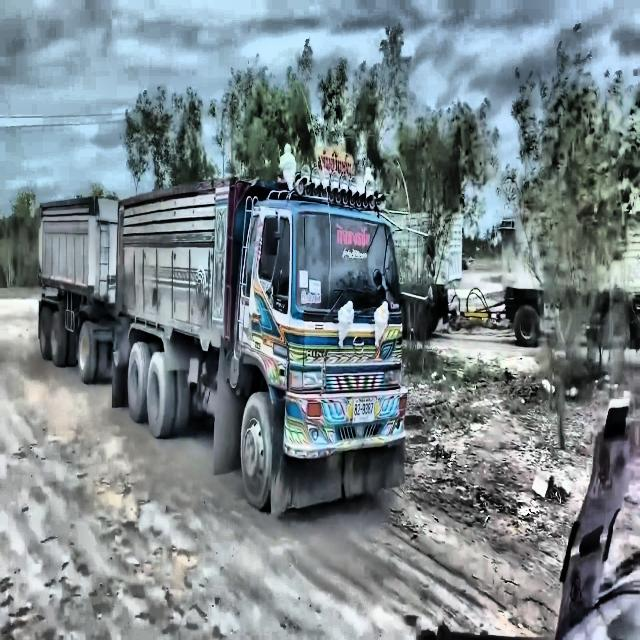trailer: (35, 145, 409, 510), (320, 197, 640, 348)
